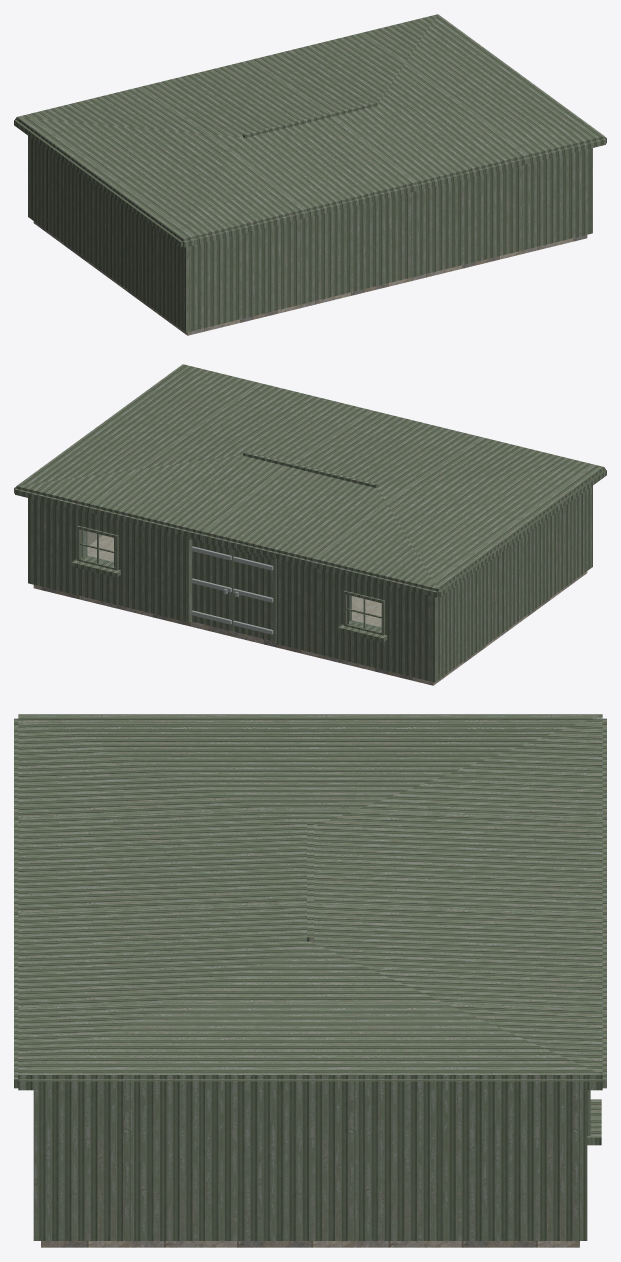
Rendered from cyclone-utility-store.gltf.
3 views of the same model, one above another, from view 1: azimuth 30°, elevation 25°; view 2: azimuth 150°, elevation 25°; view 3: azimuth 270°, elevation 25° (orthographic). The views are drawn at different scales.
Parts seen in each view (by area): view 1: roof-L1-metal, exterior-L0-metal, roof-trim-L1-metal, floor-L0-stone; view 2: roof-L1-metal, exterior-L0-metal, door-L0-metal (×2), roof-trim-L1-metal, floor-L0-stone, facade-trim-L0-metal, glazing-L0-glass, door-L0-iron (×2), floor-L0-plaster, portal-trim-L0-metal; view 3: roof-L1-metal, exterior-L0-metal, roof-trim-L1-metal, floor-L0-stone, facade-trim-L0-metal.
Part boxes in pixels (x1,y1,x2,y2): roof-L1-metal: (16,14,604,241); exterior-L0-metal: (28,136,592,332); roof-trim-L1-metal: (14,101,606,247); floor-L0-stone: (33,221,587,335); roof-L1-metal: (16,364,604,591); exterior-L0-metal: (28,486,592,682); door-L0-metal (×2): (192,540,273,640); roof-trim-L1-metal: (14,451,606,597); floor-L0-stone: (33,571,587,685); facade-trim-L0-metal: (71,525,387,642); glazing-L0-glass: (83,530,381,629); door-L0-iron (×2): (191,546,273,634); floor-L0-plaster: (87,535,381,627); portal-trim-L0-metal: (186,537,276,643); roof-L1-metal: (18,714,602,1079); exterior-L0-metal: (33,1090,587,1240); roof-trim-L1-metal: (14,718,606,1090); floor-L0-stone: (41,1241,579,1247); facade-trim-L0-metal: (587,1090,601,1145).
Bounding box in the file's own units: 9.6 × 2.42 × 6.6.
5 materials, 3 textured.
